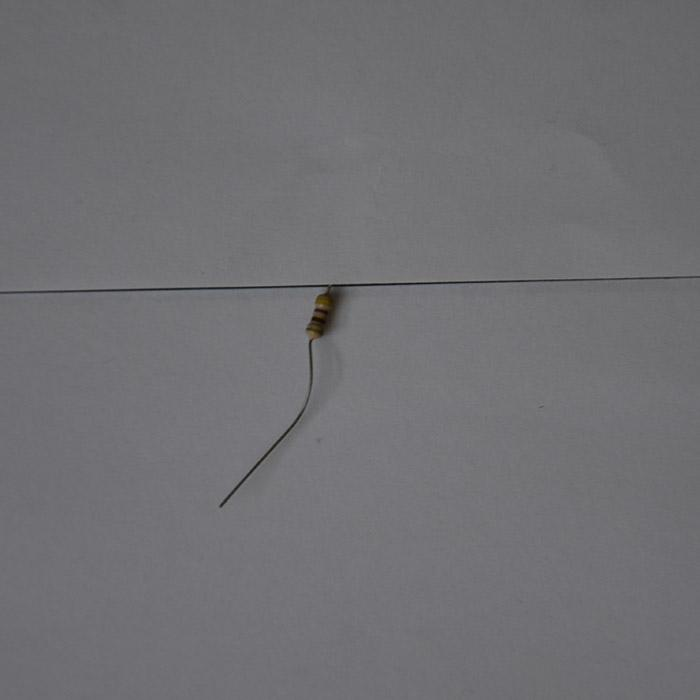resistor: (305, 289, 334, 342)
